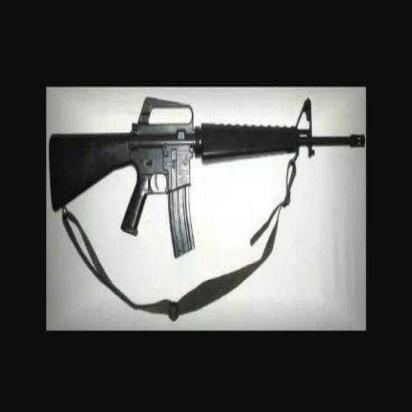Gun: (49, 89, 364, 243)
